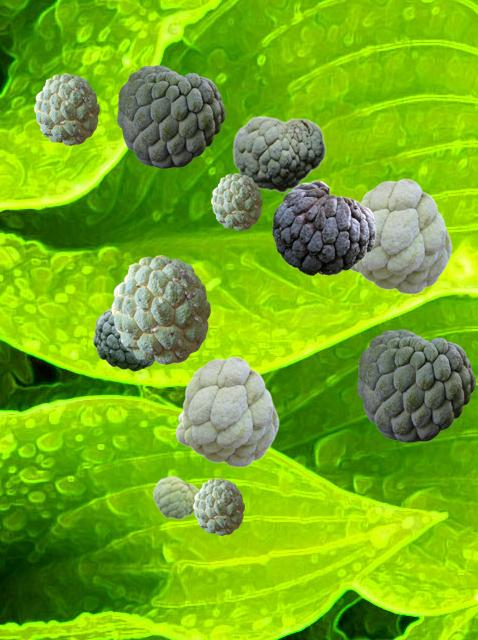atis: (357, 329, 474, 441), (350, 178, 451, 293), (175, 356, 278, 466), (117, 65, 224, 167), (111, 255, 209, 363), (272, 180, 375, 274), (232, 115, 325, 192), (34, 73, 98, 144), (93, 308, 154, 370), (211, 173, 261, 229), (193, 478, 243, 534), (152, 475, 199, 519)
